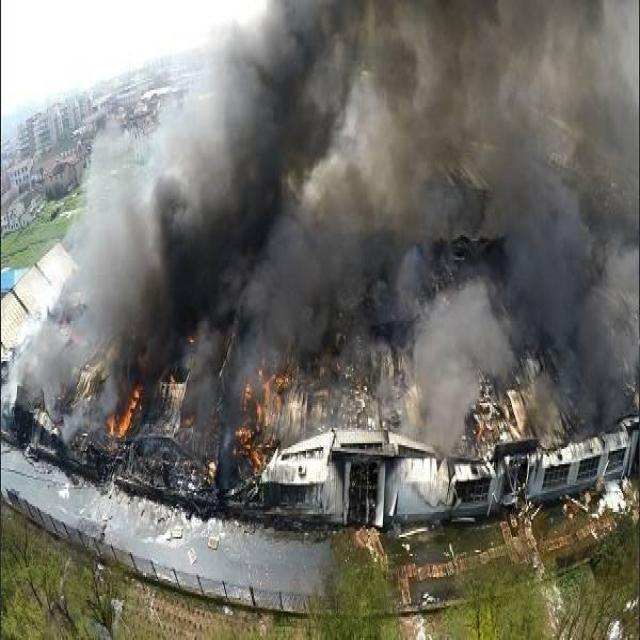fire: (237, 361, 288, 460), (106, 380, 140, 436)
smoke: (8, 0, 640, 441)
